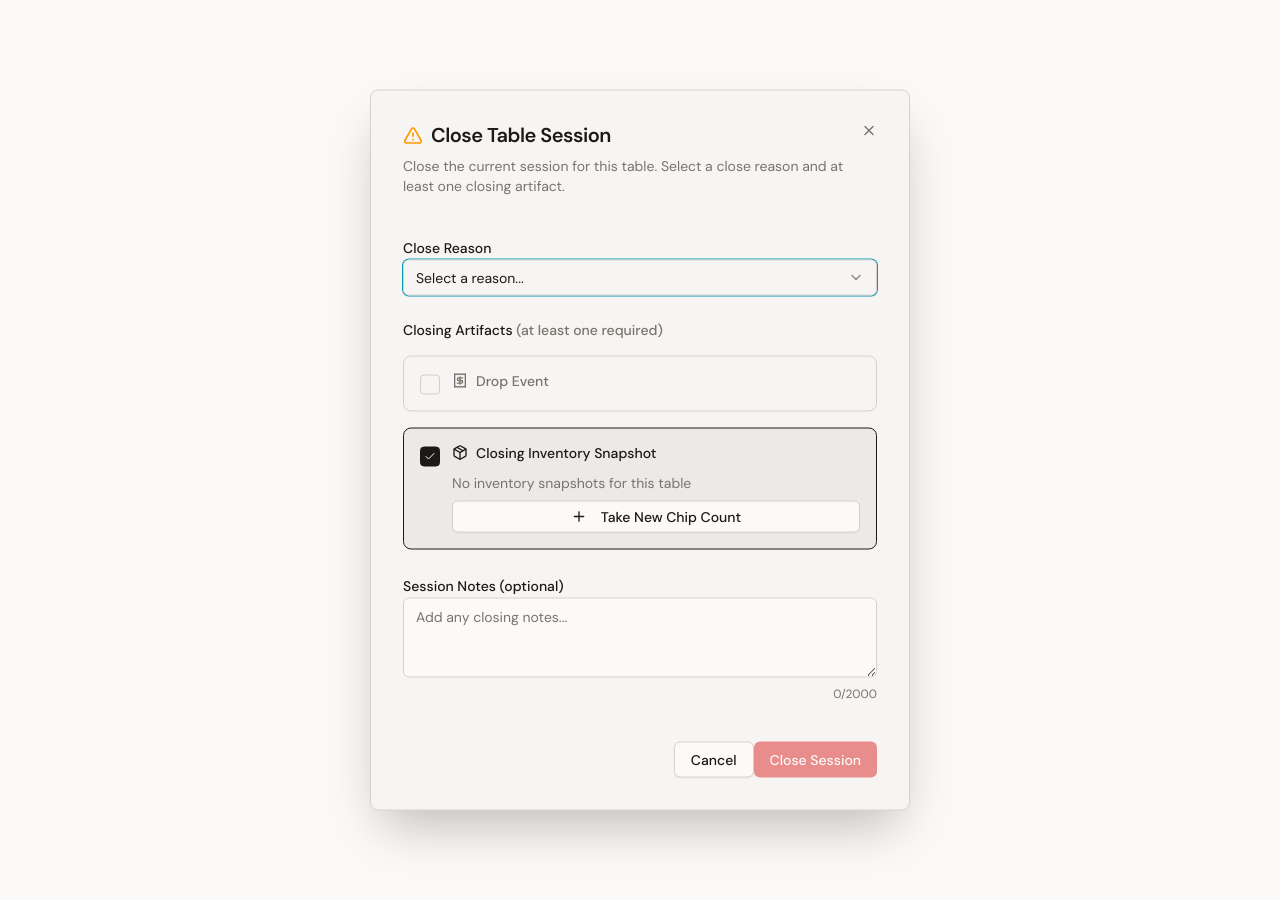
Test: CloseSessionDialog › renders close reason select with exactly CLOSE_REASON_OPTIONS
// Open the select dropdown
Click the dropdown: (470, 278) 403,260 -> 877,296
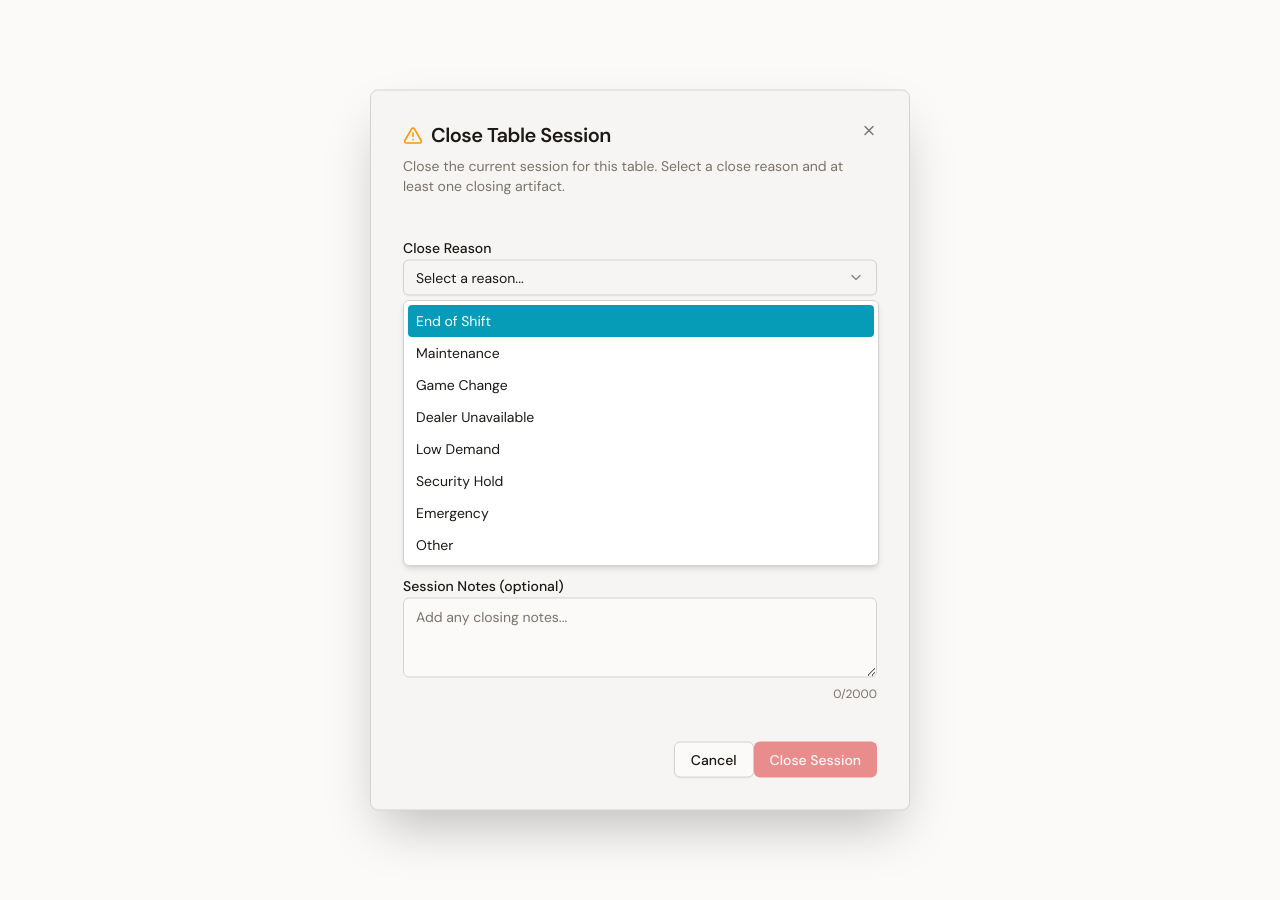
Expected: the number of options is 8
Expected: the option "End of Shift" is shown, 408,305 -> 874,337
Expected: the option "Maintenance" is shown, 416,344 -> 500,362
